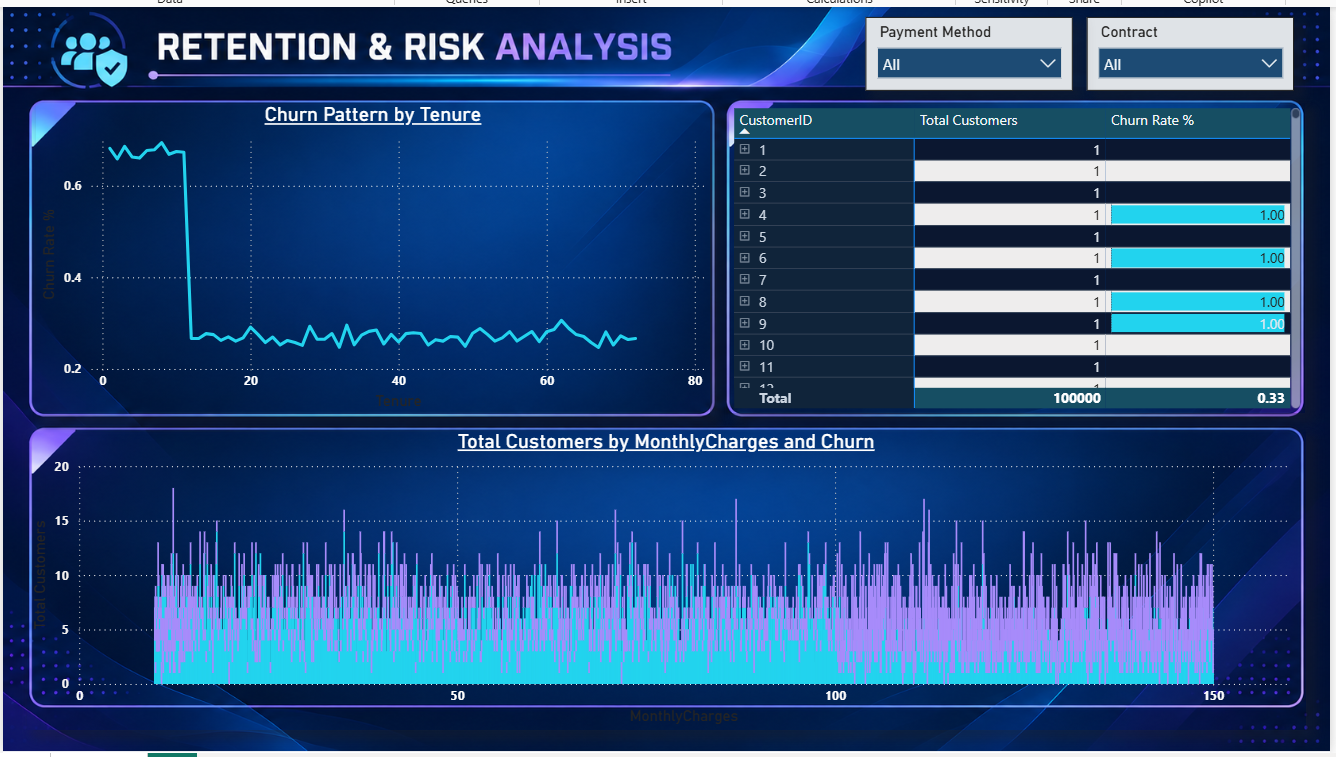

This screenshot's page, from the dashboard's own definition file:
{"tool":"powerbi","page":{"name":"Page 2","canvas":[1280,720],"ordinal":1},"visuals":[{"type":"slicer","fields":{"Values":["Cleaned_Churn_Data.Contract"]},"box":[1046,9.7,200.3,71.2],"z":0},{"type":"slicer","fields":{"Values":["Cleaned_Churn_Data.PaymentMethod"]},"box":[832.4,9.7,200.3,71.2],"z":1000},{"type":"lineChart","title":"Churn Pattern by Tenure","fields":{"Category":["Cleaned_Churn_Data.Tenure"],"Y":["Cleaned_Churn_Data.Churn Rate %"]},"box":[31.4,92.9,651.5,300.4],"z":1001},{"type":"pivotTable","fields":{"Rows":["Cleaned_Churn_Data.CustomerID","Cleaned_Churn_Data.PaymentMethod"],"Values":["Cleaned_Churn_Data.Total Customers","Cleaned_Churn_Data.Churn Rate %"]},"box":[700.9,92.9,556.2,299.2],"z":1002},{"type":"columnChart","fields":{"Category":["Cleaned_Churn_Data.MonthlyCharges"],"Y":["Cleaned_Churn_Data.Total Customers"],"Series":["Cleaned_Churn_Data.Churn"]},"box":[22.9,407.8,1234.2,289.5],"z":1003}]}

Visuals, with their boxes in screenshot pixels (x1, y1, x2, y2):
slicer - Cleaned_Churn_Data.Contract: locate(1099, 14, 1313, 90)
slicer - Cleaned_Churn_Data.PaymentMethod: locate(871, 14, 1085, 90)
"Churn Pattern by Tenure" lineChart: locate(16, 103, 711, 423)
pivotTable - Cleaned_Churn_Data.CustomerID x Cleaned_Churn_Data.PaymentMethod: locate(731, 103, 1324, 422)
columnChart - Cleaned_Churn_Data.MonthlyCharges x Cleaned_Churn_Data.Total Customers: locate(7, 439, 1324, 748)
